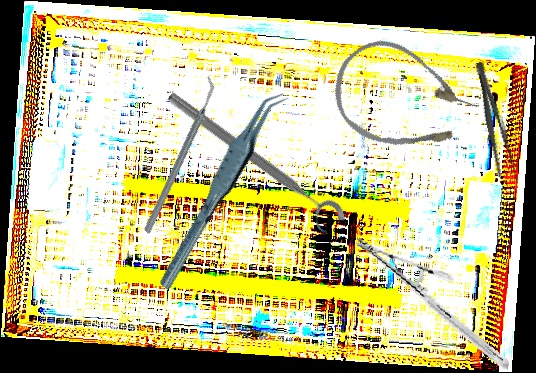Cannula: (319, 26, 487, 174)
Chopper: (96, 75, 262, 235)
Dressing Forceps: (468, 59, 522, 188)
Fixation Ring: (156, 86, 350, 241)
Needle Holder: (337, 237, 528, 370)
Tissue Forceps: (136, 85, 306, 292)
